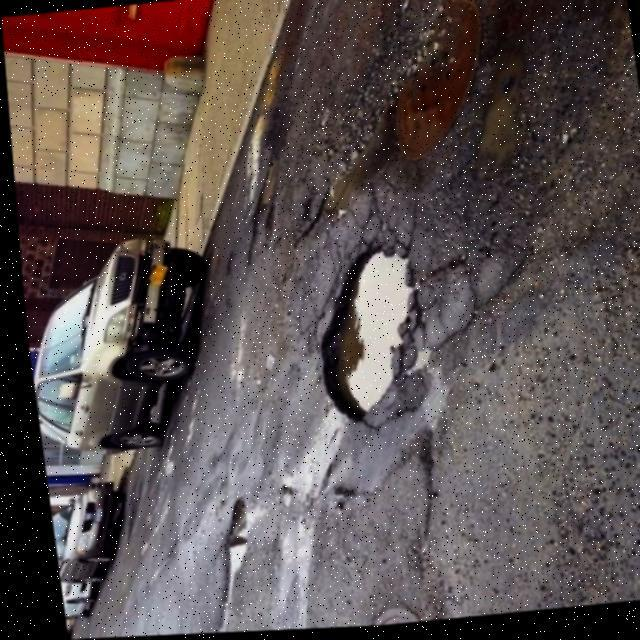pothole: (282, 240, 437, 428)
